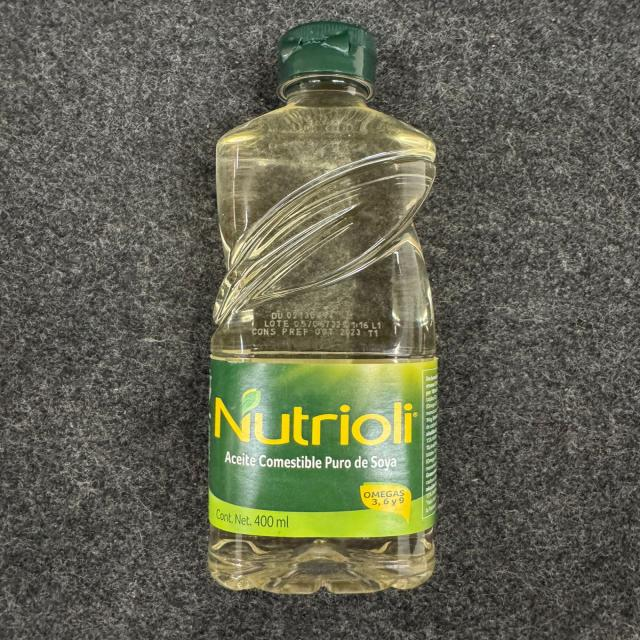ACEITE NUTRIOLI 400 ML: (204, 18, 438, 596)
